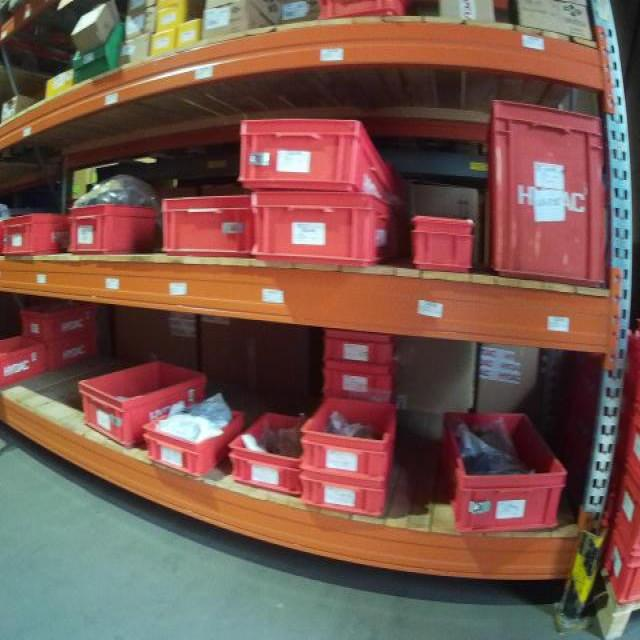small_load_carrier: (480, 93, 614, 291), (437, 408, 568, 535), (233, 114, 406, 204), (78, 352, 211, 453), (246, 193, 394, 263), (141, 398, 249, 483), (295, 392, 398, 477), (227, 403, 302, 504), (158, 191, 253, 263), (67, 200, 159, 259), (300, 472, 400, 520), (320, 362, 403, 407), (18, 301, 100, 343), (411, 217, 474, 271), (2, 213, 67, 261), (606, 464, 638, 559), (319, 336, 402, 372), (42, 329, 102, 376), (2, 332, 48, 392), (597, 542, 637, 607), (613, 406, 637, 488)
